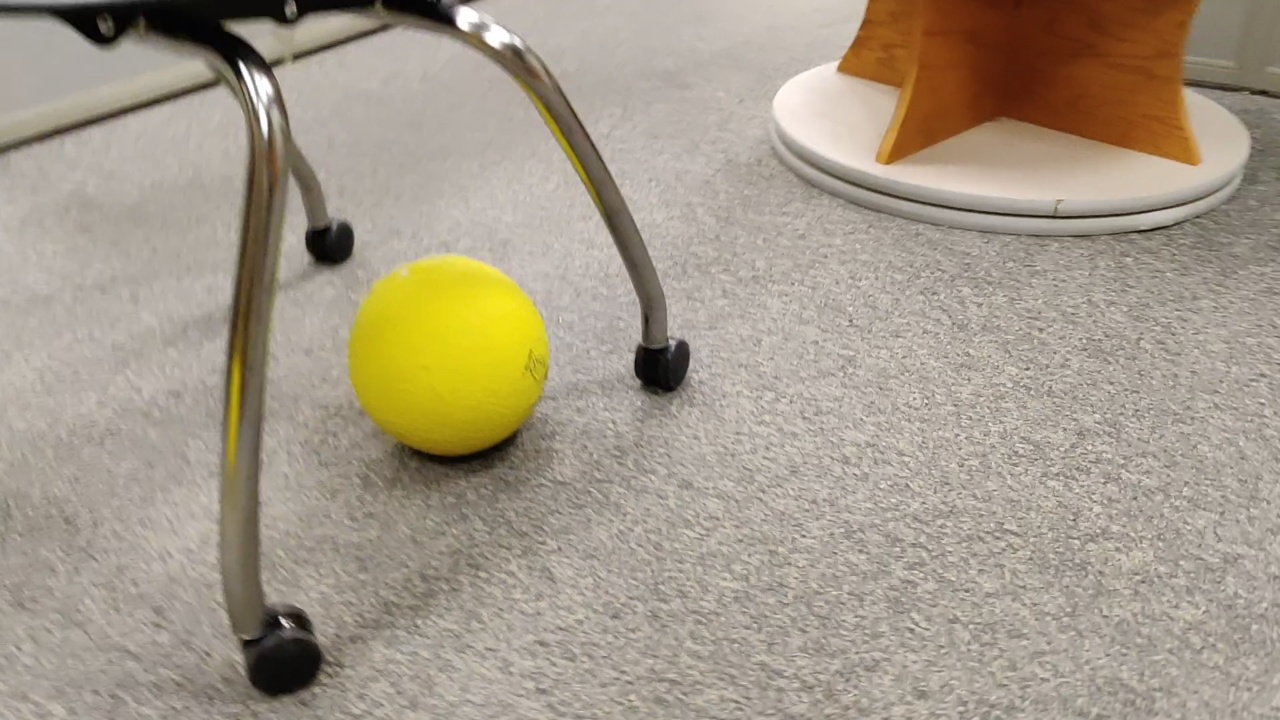Ball: (348, 252, 557, 463)
